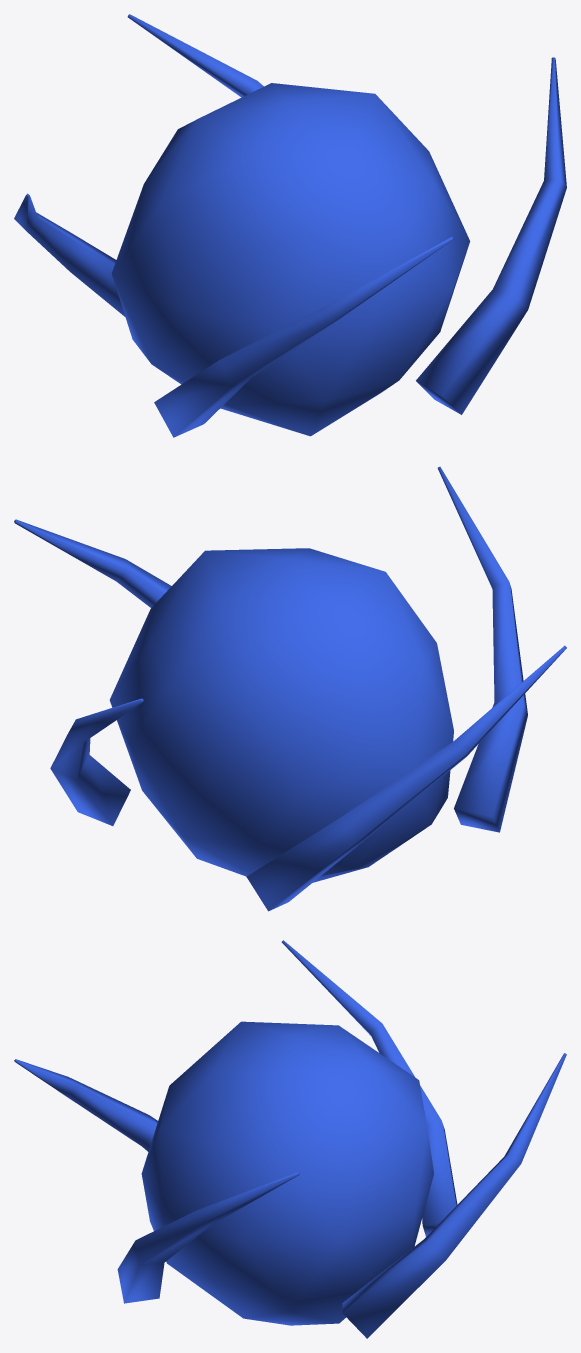
Rendered from soul_of_might.glb.
The picture shows the model from 3 angles, top to bottom: view 1: azimuth 30°, elevation 25°; view 2: azimuth 150°, elevation 25°; view 3: azimuth 270°, elevation 25°; orthographic projection. The views are drawn at different scales.
Visible parts, largest first — view 1: soul_of_might_v0; view 2: soul_of_might_v0; view 3: soul_of_might_v0.
Part boxes in pixels (<box>): soul_of_might_v0: <box>14,14,566,437</box>; soul_of_might_v0: <box>14,466,566,911</box>; soul_of_might_v0: <box>14,940,566,1338</box>.
Bounding box in the file's own units: 0.3016 × 0.1742 × 0.3016.
